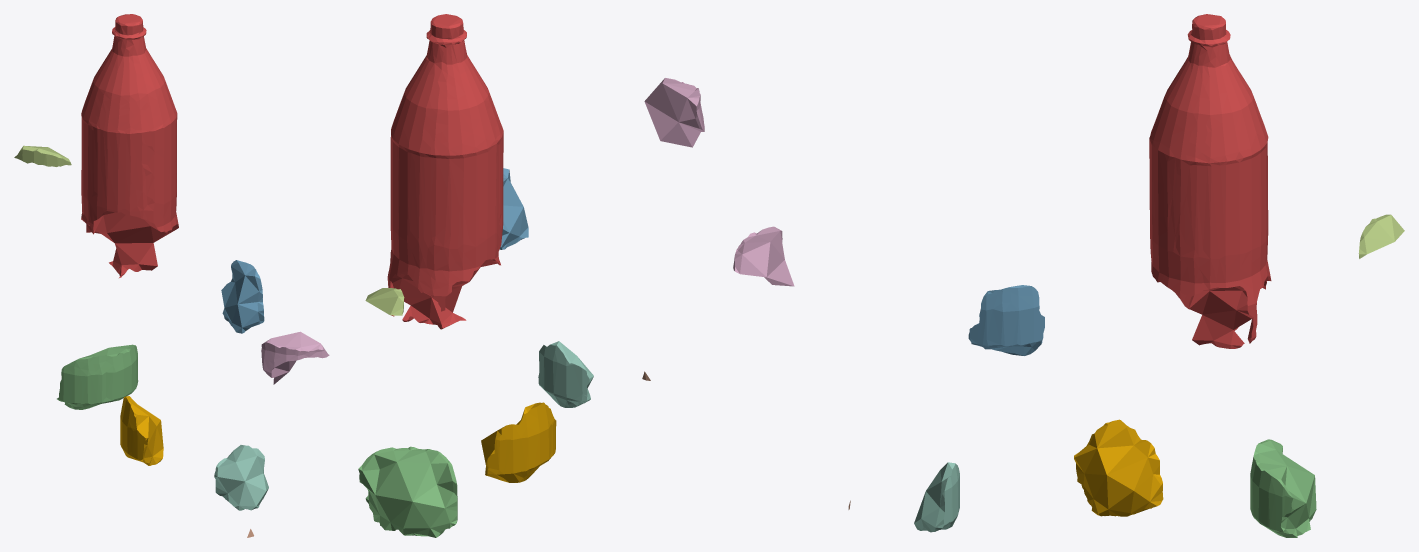
The model's file is mode_14_8pcs_transformed.glb.
3 renders of one model, left to right at view 1: azimuth 30°, elevation 25°; view 2: azimuth 150°, elevation 25°; view 3: azimuth 270°, elevation 25°, orthographic. The views are drawn at different scales.
Visible parts, largest first — view 1: piece_1.obj, piece_3.obj, piece_4.obj, piece_2.obj, piece_0.obj, piece_6.obj, piece_5.obj; view 2: piece_1.obj, piece_3.obj, piece_0.obj, piece_6.obj, piece_4.obj, piece_2.obj, piece_5.obj; view 3: piece_1.obj, piece_0.obj, piece_3.obj, piece_2.obj, piece_6.obj, piece_4.obj, piece_5.obj.
Part boxes in pixels (x1,y1,x2,y2): piece_1.obj: (81,14,178,277); piece_3.obj: (57,344,138,409); piece_4.obj: (214,445,268,510); piece_2.obj: (221,260,264,333); piece_0.obj: (120,396,163,465); piece_6.obj: (261,331,329,384); piece_5.obj: (14,145,71,166); piece_1.obj: (387,14,503,329); piece_3.obj: (358,446,457,537); piece_0.obj: (481,402,556,482); piece_6.obj: (644,78,704,147); piece_4.obj: (538,341,593,407); piece_2.obj: (499,168,528,249); piece_5.obj: (365,288,404,315); piece_1.obj: (1149,14,1271,348); piece_0.obj: (1074,419,1163,516); piece_3.obj: (1250,439,1316,537); piece_2.obj: (968,285,1044,355); piece_6.obj: (733,226,794,286); piece_4.obj: (914,462,959,532); piece_5.obj: (1358,214,1404,258).
Bounding box in the file's own units: 0.3641 × 1.6 × 1.94.
